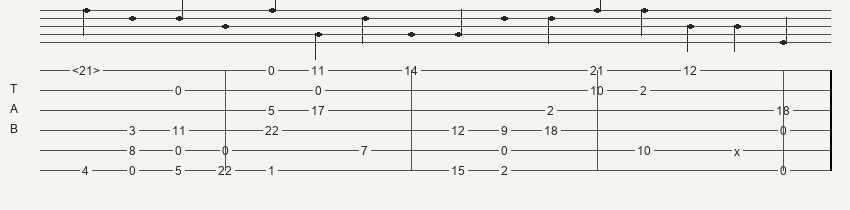0: (129, 164, 140, 177), (175, 84, 186, 97), (175, 144, 186, 157), (222, 144, 233, 157), (268, 64, 279, 77), (315, 84, 326, 97), (501, 144, 512, 157), (780, 164, 791, 177), (780, 124, 791, 137)
1: (268, 164, 279, 177)
10: (590, 84, 608, 97), (637, 144, 655, 157)
11: (172, 124, 190, 137), (311, 64, 329, 77)
12: (451, 124, 469, 137), (683, 64, 701, 77)
14: (404, 64, 422, 77)
15: (451, 164, 469, 177)
17: (311, 104, 329, 117)
18: (544, 124, 562, 137), (776, 104, 794, 117)
2: (501, 164, 512, 177), (547, 104, 558, 117), (640, 84, 651, 97)
21: (590, 64, 608, 77)
22: (218, 164, 236, 177), (265, 124, 283, 137)
3: (129, 124, 140, 137)
4: (82, 164, 93, 177)
5: (175, 164, 186, 177), (268, 104, 279, 117)
7: (361, 144, 372, 157)
8: (129, 144, 140, 157)
9: (501, 124, 512, 137)
harmonic: (72, 64, 104, 77)
x: (734, 145, 744, 156)
